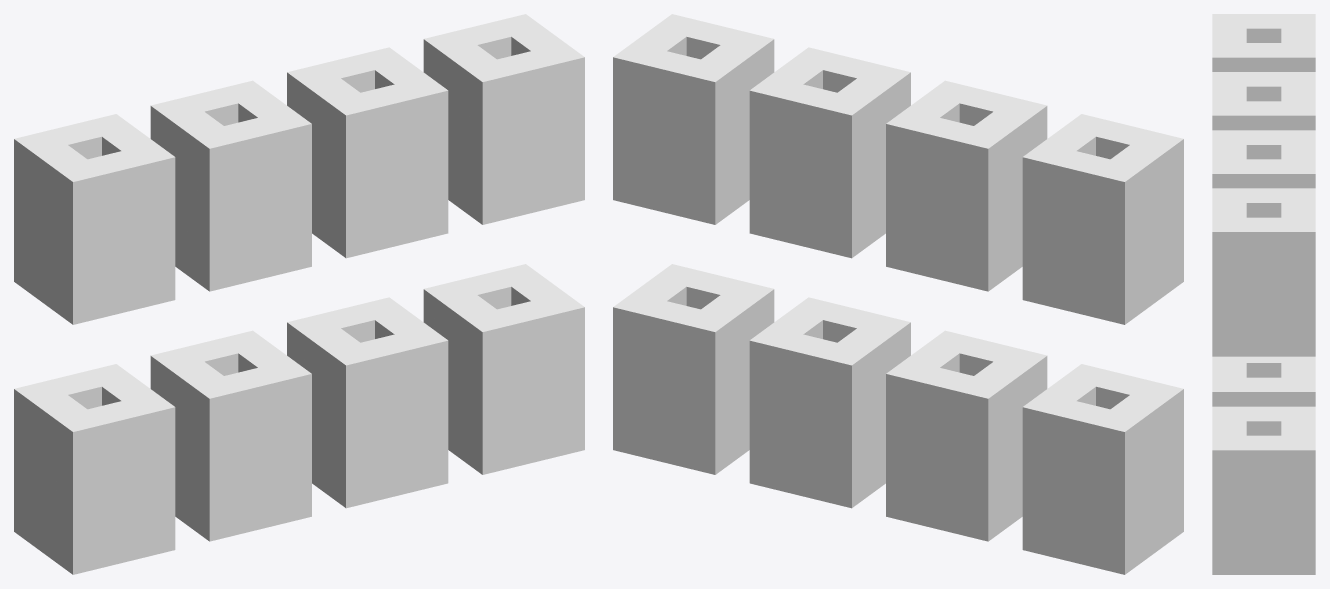
Rendered from Spice Rack - Bottles.obj.
The picture shows the model from 3 angles, left to right: view 1: azimuth 30°, elevation 25°; view 2: azimuth 150°, elevation 25°; view 3: azimuth 270°, elevation 25°; orthographic projection. The views are drawn at different scales.
Size of the model in its own units: 1.5 by 1.1 by 0.3.
Materials: 1 (1 with a texture image).
